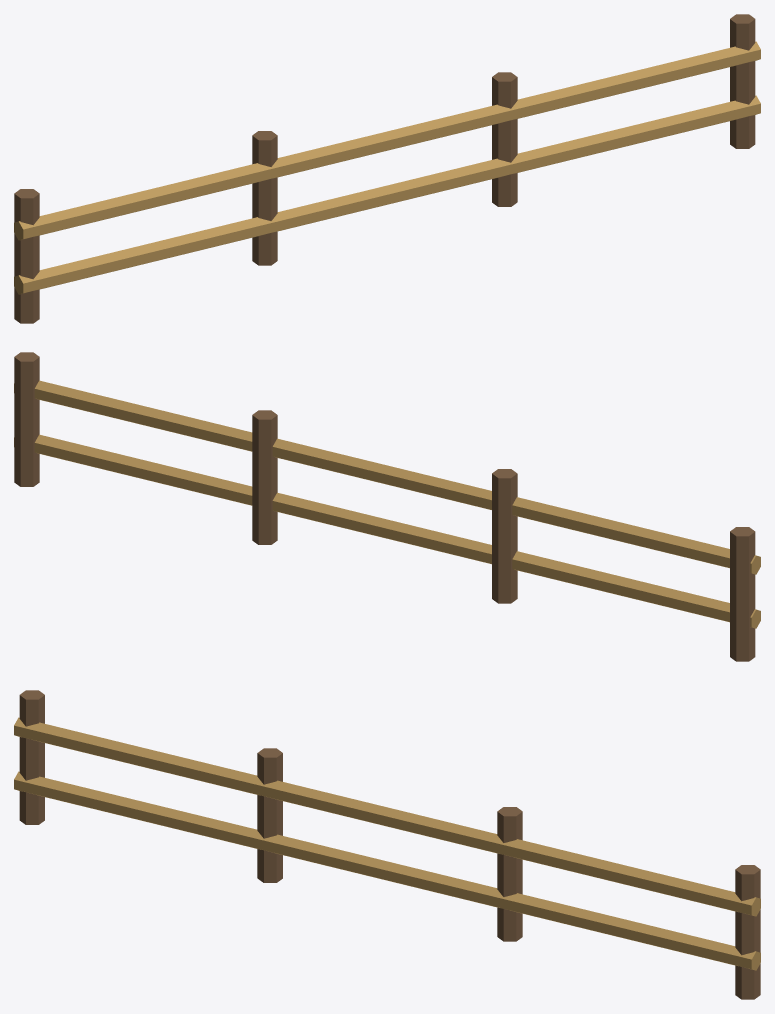
The model's file is fence_segment.glb.
The picture shows the model from 3 angles, top to bottom: view 1: azimuth 30°, elevation 25°; view 2: azimuth 150°, elevation 25°; view 3: azimuth 330°, elevation 25°; orthographic projection.
Parts seen in each view (by area): view 1: fence_segment; view 2: fence_segment; view 3: fence_segment.
Boxes of the visible parts, box(x1,y1,x2,y2) form: fence_segment: box(14, 14, 760, 323); fence_segment: box(14, 352, 760, 661); fence_segment: box(14, 690, 760, 999).
Size of the model in its own units: 4 by 0.65 by 0.1283.
